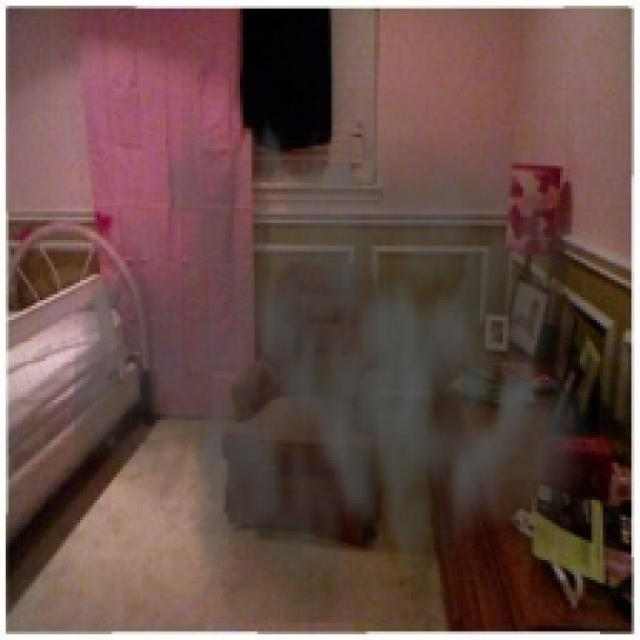smoke: (74, 60, 626, 623)
